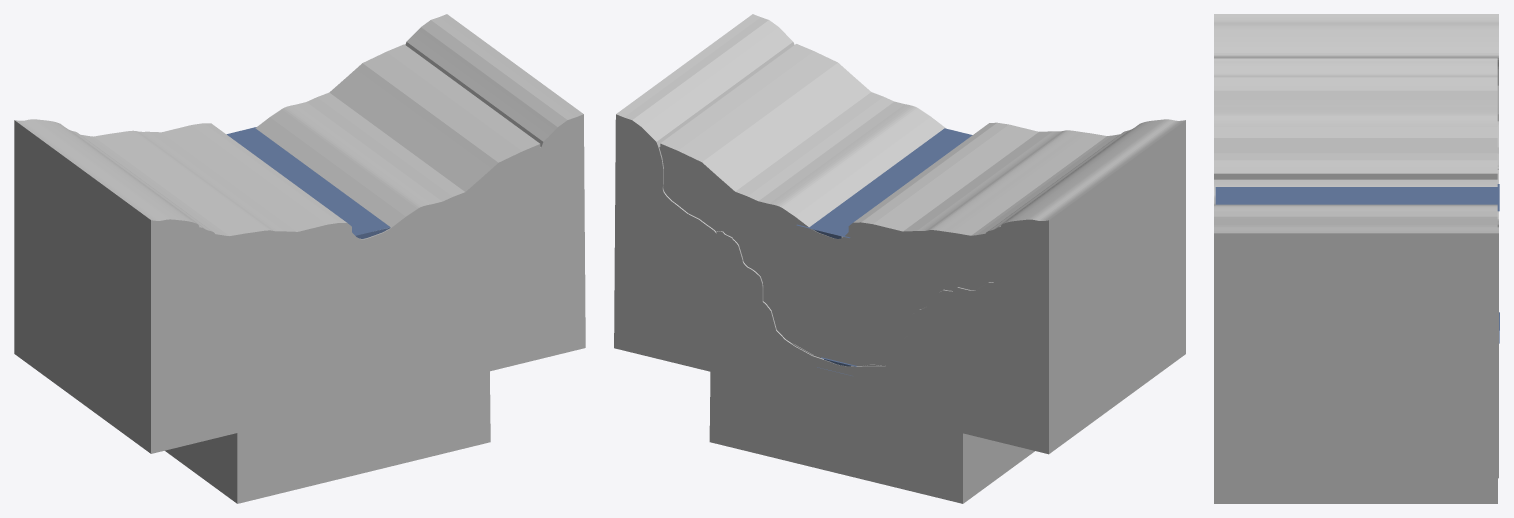
Rendered from 堆积基座阶地.gltf.
3 views of the same model, side by side, from view 1: azimuth 30°, elevation 25°; view 2: azimuth 150°, elevation 25°; view 3: azimuth 270°, elevation 25° (orthographic). The views are drawn at different scales.
Visible parts, largest first — view 1: node_1_-32152, node_1_-35382, node_2_-32232, node_2_-31992, node_ (3)_-40216, node_3_-32072; view 2: node_1_-35382, node_1_-32152, node_2_-32232, node_3_-32072, node_ (3)_-40216, node_2_-31992; view 3: node_1_-35382, node_1_-32152, node_2_-32232, node_ (3)_-40216.
Boxes of the visible parts, left/top/right/bottom form: node_1_-32152: left=68, top=44, right=540, bottom=441; node_1_-35382: left=14, top=14, right=585, bottom=453; node_2_-32232: left=165, top=315, right=490, bottom=503; node_2_-31992: left=197, top=145, right=557, bottom=429; node_ (3)_-40216: left=226, top=127, right=390, bottom=235; node_3_-32072: left=247, top=256, right=475, bottom=413; node_1_-35382: left=614, top=14, right=1185, bottom=454; node_1_-32152: left=660, top=44, right=1133, bottom=365; node_2_-32232: left=709, top=343, right=1034, bottom=503; node_3_-32072: left=716, top=231, right=952, bottom=414; node_ (3)_-40216: left=796, top=128, right=972, bottom=238; node_2_-31992: left=659, top=146, right=1001, bottom=289; node_1_-35382: left=1214, top=14, right=1498, bottom=478; node_1_-32152: left=1214, top=58, right=1497, bottom=227; node_2_-32232: left=1214, top=478, right=1497, bottom=503; node_ (3)_-40216: left=1215, top=184, right=1499, bottom=211.
Size of the model in its own units: 15.17 by 10.18 by 8.3.
